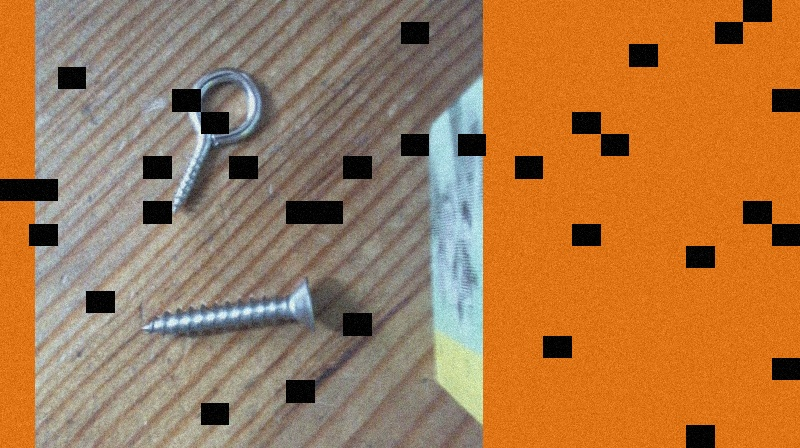O001: (167, 65, 269, 223)
S001: (139, 275, 327, 349)
